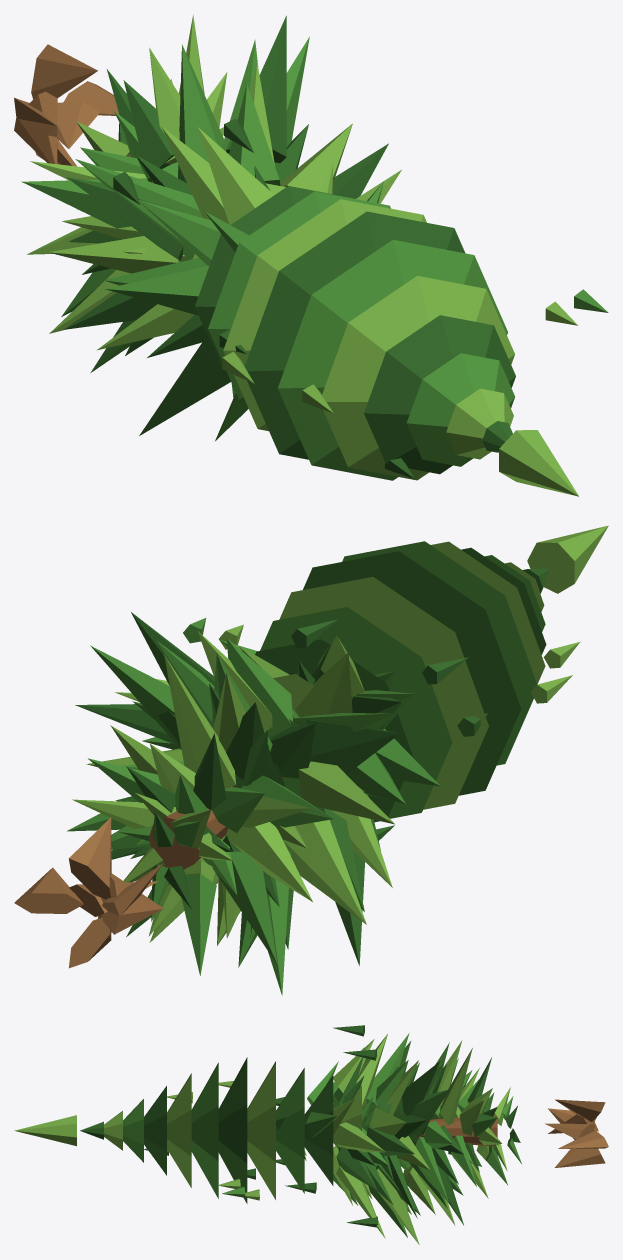
File: arvore.glb
3 views of the same model, one above another, from view 1: azimuth 30°, elevation 25°; view 2: azimuth 150°, elevation 25°; view 3: azimuth 270°, elevation 25° (orthographic). The views are drawn at different scales.
Parts seen in each view (by area): view 1: Branch tier 1_2, Branch tier 1_1, Foliage core 1, Root 1; view 2: Branch tier 1_2, Branch tier 1_1, Foliage core 1, Root 1, Main trunk; view 3: Branch tier 1_2, Foliage core 1, Branch tier 1_1, Root 1, Main trunk.
Boxes of the visible parts, <box> form: Branch tier 1_2: <box>27,15,578,496</box>; Branch tier 1_1: <box>21,36,608,480</box>; Foliage core 1: <box>63,15,515,478</box>; Root 1: <box>14,44,119,166</box>; Branch tier 1_2: <box>72,525,608,945</box>; Branch tier 1_1: <box>67,541,545,995</box>; Foliage core 1: <box>75,547,549,965</box>; Root 1: <box>14,817,163,968</box>; Main trunk: <box>148,777,283,869</box>; Branch tier 1_2: <box>14,1034,510,1244</box>; Foliage core 1: <box>80,1025,520,1227</box>; Branch tier 1_1: <box>123,1033,521,1237</box>; Root 1: <box>545,1099,608,1167</box>; Main trunk: <box>417,1115,497,1146</box>.
Size of the model in its own units: 6.27 by 5.75 by 15.56.
